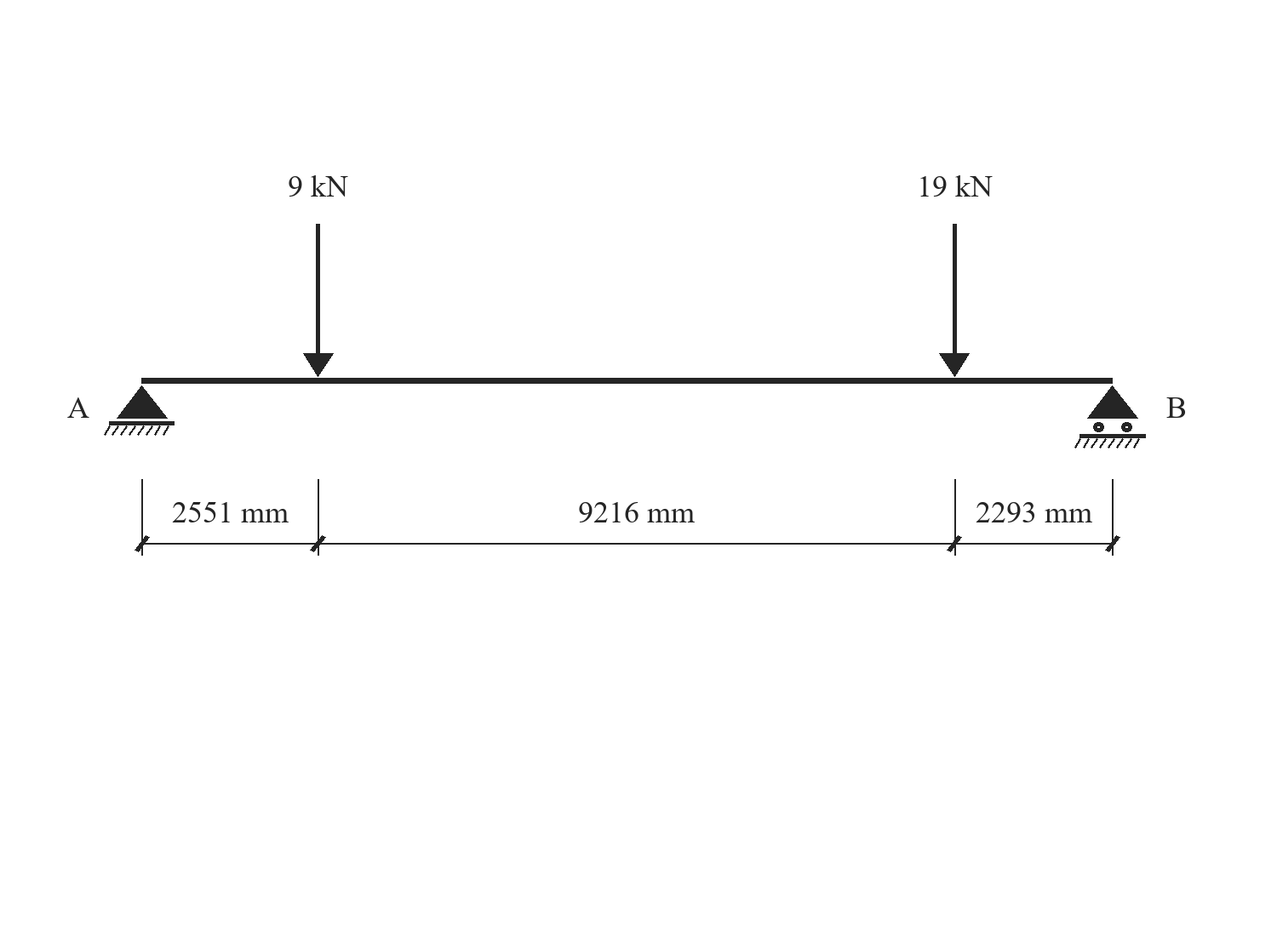pin_support: (104, 385, 175, 436)
point_load: (303, 224, 334, 377), (939, 224, 970, 377)
roller_support: (1074, 385, 1146, 448)
